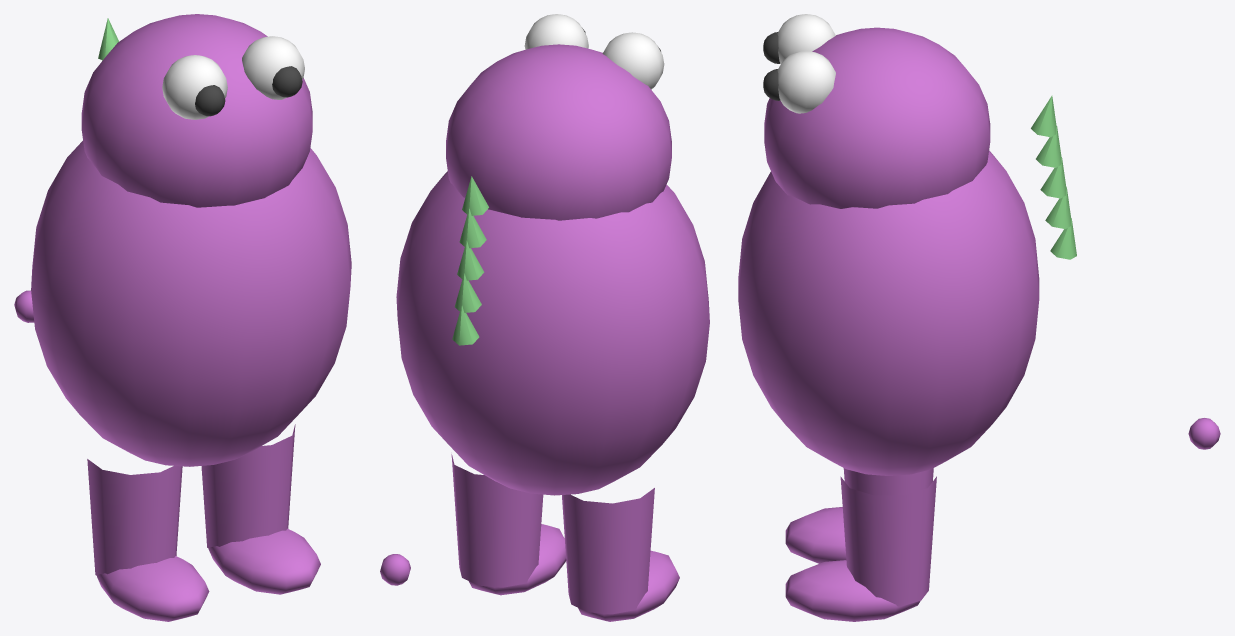
Rendered from barney.glb.
3 views of the same model, side by side, from view 1: azimuth 30°, elevation 25°; view 2: azimuth 150°, elevation 25°; view 3: azimuth 270°, elevation 25° (orthographic). The views are drawn at different scales.
Parts seen in each view (by area): view 1: body, head, leg--1, leg-1, foot-1, foot--1, eye-l, eye-r, pupil-l, pupil-r, tail-tip; view 2: body, head, leg--1, leg-1, eye-l, foot--1, foot-1, eye-r, tail-tip, spine-0, spine-4, spine-2 (+2 smaller); view 3: body, head, leg-1, foot-1, eye-r, foot--1, eye-l, leg--1, tail-tip.
Boxes of the visible parts, x1,y1,x2,y2 form: body: [31, 141, 351, 466]; head: [81, 14, 312, 207]; leg--1: [87, 459, 182, 575]; leg-1: [201, 424, 295, 548]; foot-1: [208, 528, 320, 594]; foot--1: [97, 556, 209, 621]; eye-l: [162, 55, 227, 119]; eye-r: [242, 36, 304, 99]; pupil-l: [195, 85, 225, 116]; pupil-r: [272, 66, 302, 97]; tail-tip: [14, 290, 34, 322]; body: [396, 171, 709, 495]; head: [446, 44, 671, 220]; leg--1: [562, 488, 654, 614]; leg-1: [451, 454, 543, 587]; eye-l: [602, 32, 664, 89]; foot--1: [578, 550, 679, 621]; foot-1: [468, 524, 566, 595]; eye-r: [524, 14, 588, 49]; tail-tip: [380, 554, 410, 585]; spine-0: [452, 306, 479, 345]; spine-4: [462, 176, 488, 215]; spine-2: [457, 241, 484, 280]; body: [738, 150, 1039, 475]; head: [764, 27, 990, 208]; leg-1: [840, 476, 936, 606]; foot-1: [785, 560, 920, 621]; eye-r: [777, 51, 835, 113]; foot--1: [785, 507, 846, 563]; eye-l: [777, 14, 835, 63]; leg--1: [843, 468, 933, 495]; tail-tip: [1188, 418, 1220, 449].
Bounding box in the file's own units: 2.8 × 5.31 × 4.2.
